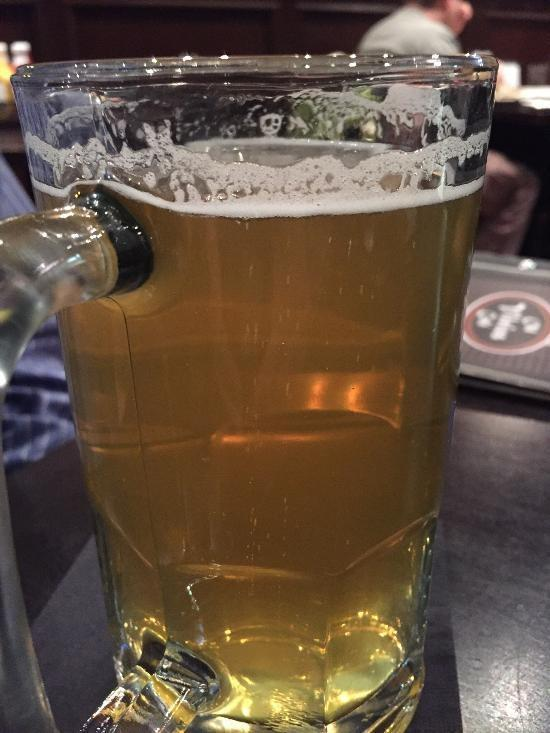glass-mug: (1, 41, 506, 733)
